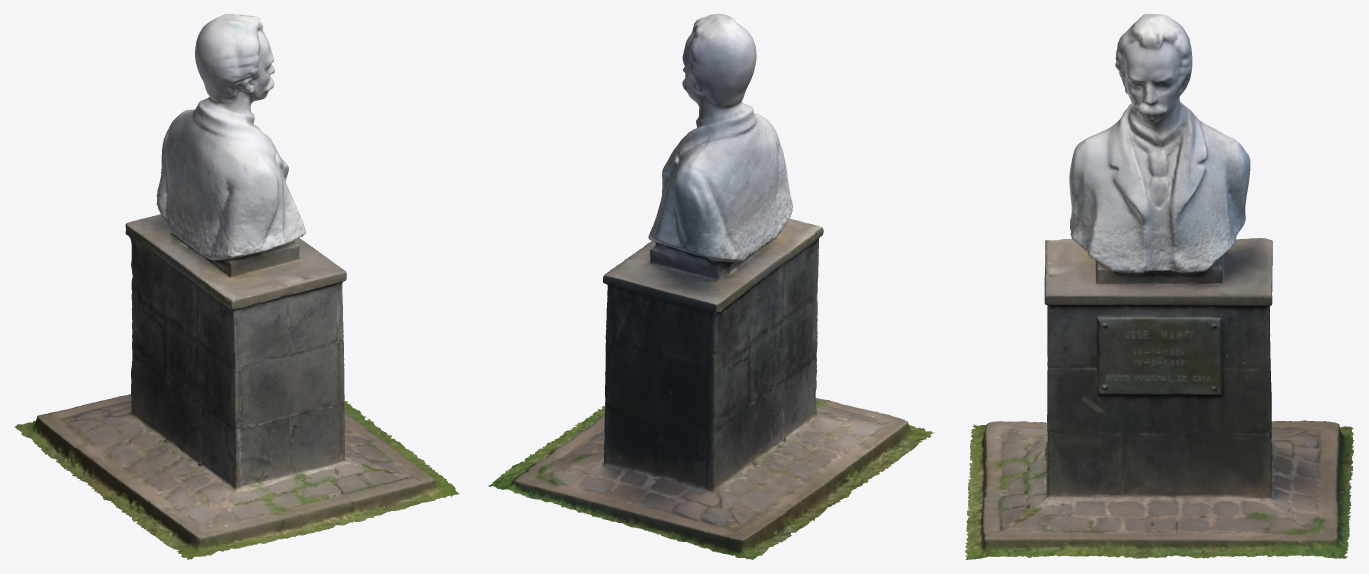
File: day54_jose_marti.glb
3 renders of one model, left to right at view 1: azimuth 30°, elevation 25°; view 2: azimuth 150°, elevation 25°; view 3: azimuth 270°, elevation 25°, orthographic. The views are drawn at different scales.
Parts seen in each view (by area): view 1: mesh_0; view 2: mesh_0; view 3: mesh_0.
Part boxes in pixels (box(x1,y1,x2,y2)): mesh_0: box(14, 14, 459, 559); mesh_0: box(488, 14, 934, 559); mesh_0: box(965, 14, 1353, 559).
Bounding box in the file's own units: 17.84 × 27.96 × 20.58.
Materials: 1 (1 with a texture image).
